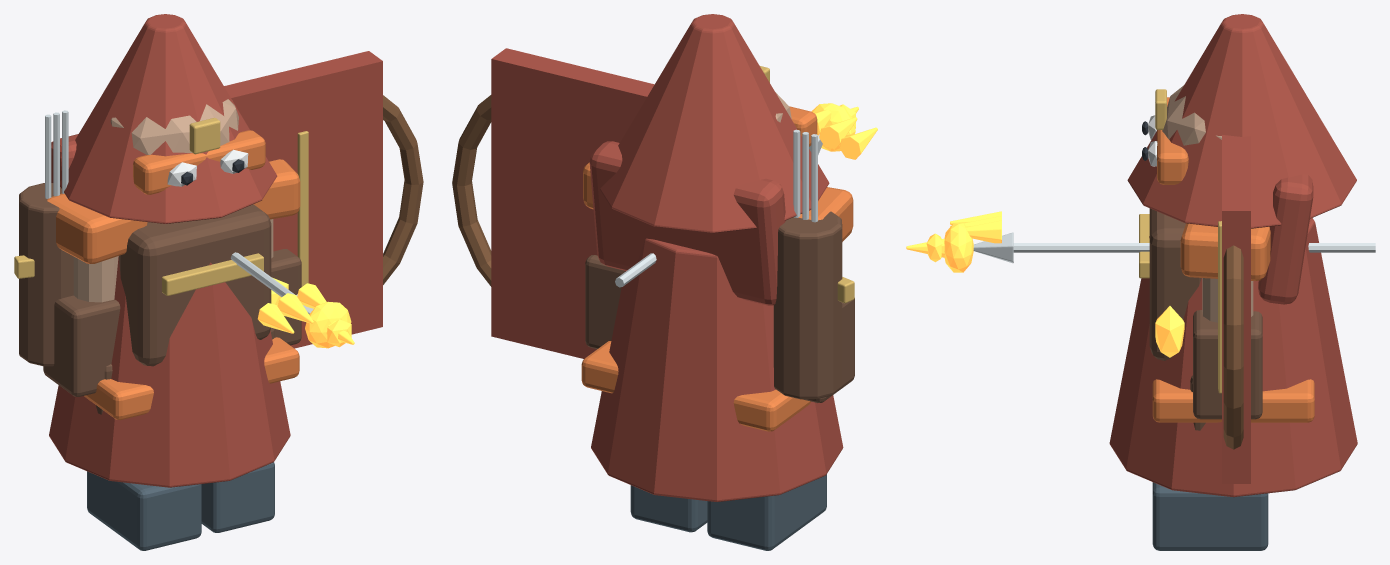
File: ember_archer.glb
The picture shows the model from 3 angles, left to right: view 1: azimuth 30°, elevation 25°; view 2: azimuth 150°, elevation 25°; view 3: azimuth 270°, elevation 25°; orthographic projection. The views are drawn at different scales.
Visible parts, largest first — view 1: Tunic, BowCut, Hood, ChestLeather, Quiver, Boot_-0.15, Bracer_-1, Boot_0.15, ShoulderPad-0.32, Bow, Belt.001, HoodBand (+15 smaller); view 2: Tunic, BowCut, Hood, Quiver, ShoulderCape, Boot_-0.15, Bow, Belt.001, Bracer_1, Boot_0.15, ShoulderPad-0.32, Bracer_-1 (+8 smaller); view 3: Tunic, Hood, Boot_0.15, BowCut, ShoulderCape, Bow, ChestLeather, Bracer_1, Belt.001, ShoulderPad0.32, Arrow, Head.001 (+8 smaller).
Boxes of the visible parts, x1=… form: Tunic: x1=49, y1=256, x2=290, y2=487; BowCut: x1=224, y1=51, x2=382, y2=348; Hood: x1=60, y1=14, x2=277, y2=223; ChestLeather: x1=119, y1=204, x2=271, y2=366; Quiver: x1=19, y1=183, x2=73, y2=366; Boot_-0.15: x1=87, y1=471, x2=201, y2=550; Bracer_-1: x1=43, y1=295, x2=120, y2=396; Boot_0.15: x1=201, y1=462, x2=274, y2=532; ShoulderPad-0.32: x1=47, y1=193, x2=147, y2=263; Bow: x1=383, y1=95, x2=423, y2=284; Belt.001: x1=84, y1=337, x2=299, y2=420; HoodBand: x1=133, y1=130, x2=265, y2=194; Tunic: x1=591, y1=238, x2=843, y2=501; BowCut: x1=491, y1=48, x2=654, y2=358; Hood: x1=600, y1=14, x2=829, y2=233; Quiver: x1=773, y1=211, x2=842, y2=399; ShoulderCape: x1=589, y1=141, x2=785, y2=305; Boot_-0.15: x1=707, y1=474, x2=826, y2=550; Bow: x1=452, y1=95, x2=491, y2=286; Belt.001: x1=581, y1=341, x2=810, y2=431; Bracer_1: x1=585, y1=255, x2=624, y2=349; Boot_0.15: x1=630, y1=485, x2=707, y2=532; ShoulderPad-0.32: x1=798, y1=187, x2=853, y2=241; Bracer_-1: x1=803, y1=298, x2=854, y2=402; Tunic: x1=1109, y1=218, x2=1357, y2=497; Hood: x1=1127, y1=14, x2=1356, y2=228; Boot_0.15: x1=1152, y1=482, x2=1268, y2=550; BowCut: x1=1222, y1=135, x2=1250, y2=483; ShoulderCape: x1=1258, y1=174, x2=1313, y2=304; Bow: x1=1223, y1=245, x2=1243, y2=449; ChestLeather: x1=1149, y1=208, x2=1201, y2=360; Bracer_1: x1=1193, y1=310, x2=1262, y2=419; Belt.001: x1=1152, y1=379, x2=1314, y2=422; ShoulderPad0.32: x1=1180, y1=223, x2=1270, y2=281; Arrow: x1=1013, y1=243, x2=1375, y2=252; Head.001: x1=1162, y1=85, x2=1221, y2=145.
Size of the model in its own units: 1.62 by 1.9 by 1.62.
